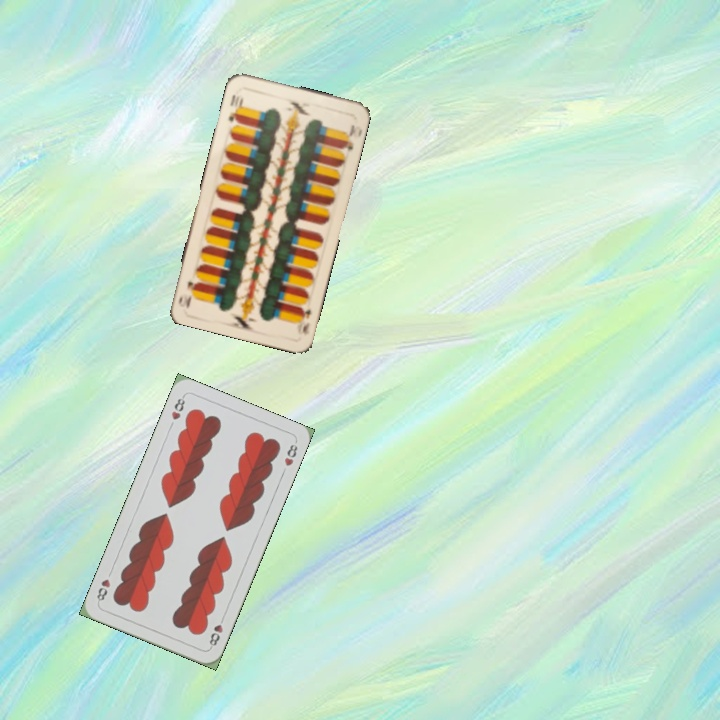E10: (224, 91, 246, 125), (297, 303, 313, 338)
H8: (205, 612, 227, 651), (167, 392, 188, 423)
